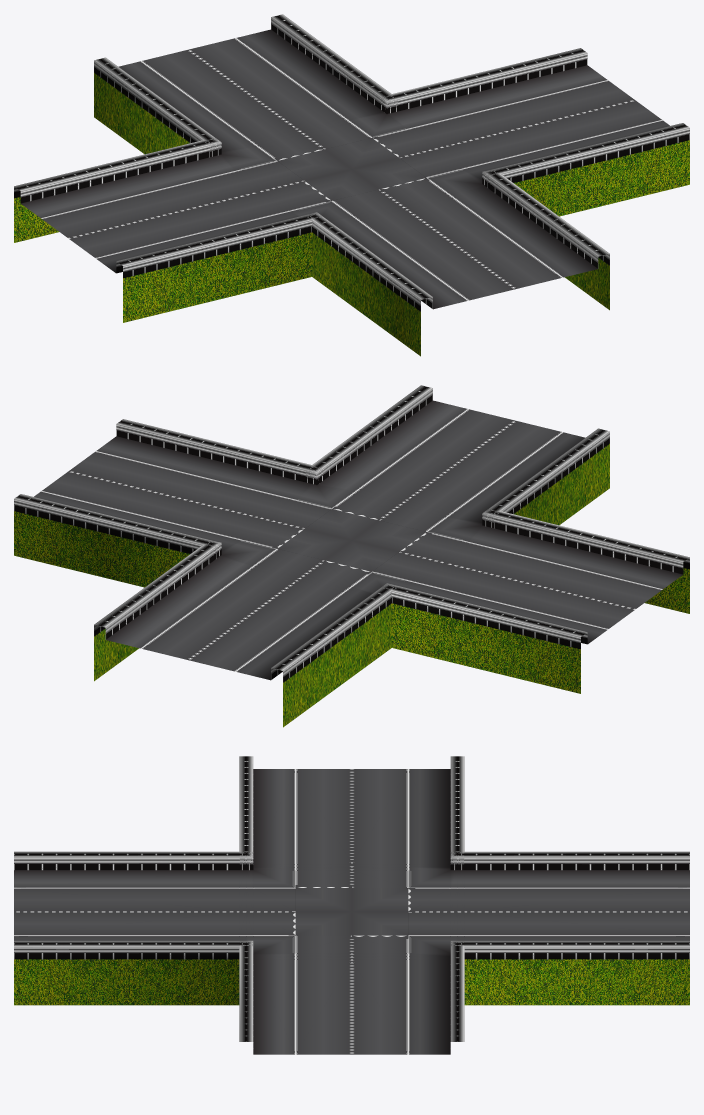
File: kruispunt_weg_1.fbx
3 views of the same model, one above another, from view 1: azimuth 30°, elevation 25°; view 2: azimuth 150°, elevation 25°; view 3: azimuth 270°, elevation 25° (orthographic). The views are drawn at different scales.
Parts seen in each view (by area): view 1: kruispunt_weg_1; view 2: kruispunt_weg_1; view 3: kruispunt_weg_1.
Boxes of the visible parts, x1,y1,x2,y2 form: kruispunt_weg_1: [14, 14, 689, 356]; kruispunt_weg_1: [14, 385, 689, 727]; kruispunt_weg_1: [14, 756, 689, 1054].
Size of the model in its own units: 3000 by 288 by 3000.
